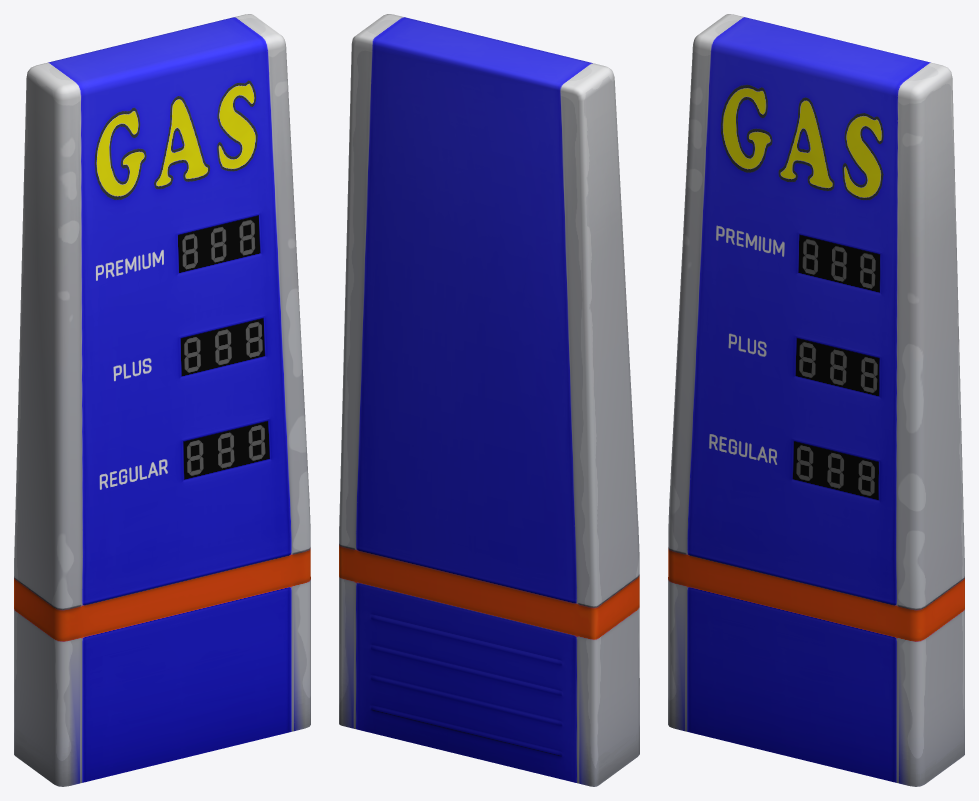
The model's file is GasStationBoard01.FBX.
3 renders of one model, left to right at view 1: azimuth 30°, elevation 25°; view 2: azimuth 150°, elevation 25°; view 3: azimuth 330°, elevation 25°, orthographic.
Visible parts, largest first — view 1: GasStationBoard01; view 2: GasStationBoard01; view 3: GasStationBoard01.
Boxes of the visible parts, x1,y1,x2,y2 form: GasStationBoard01: (14,14,310,786); GasStationBoard01: (339,14,639,786); GasStationBoard01: (668,14,964,786).
Size of what is drawn, in the model's own units: 1.56 by 4 by 0.5.
